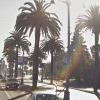Palm tree: (13, 2, 64, 88)
